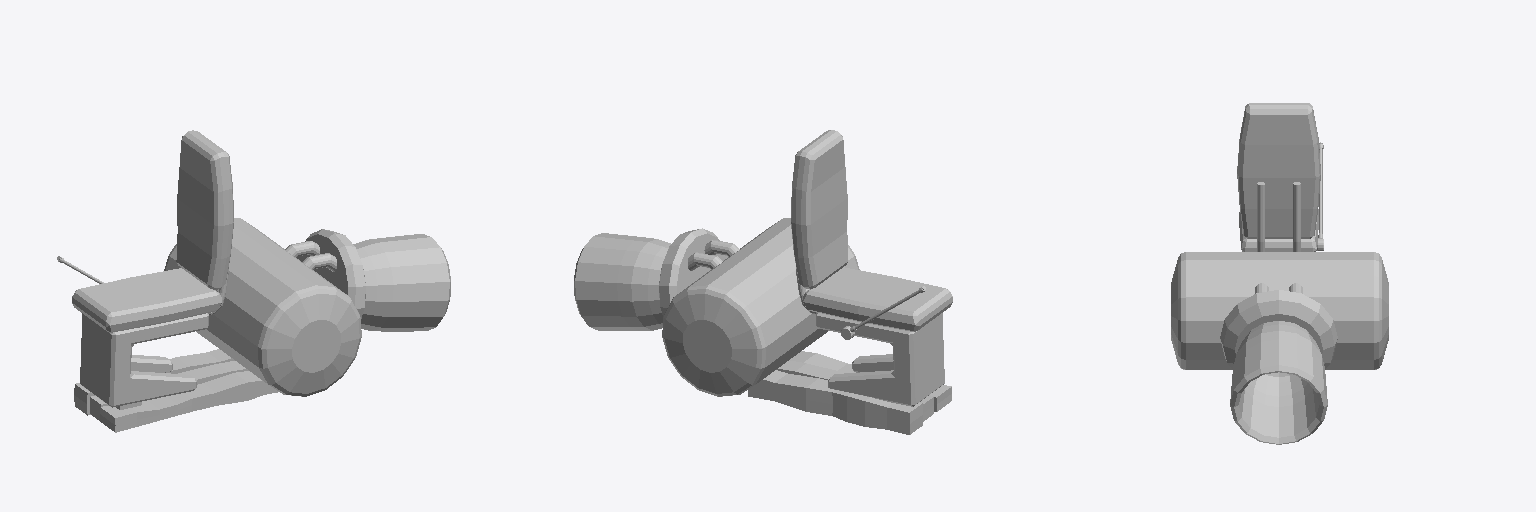
Rendered from navinhoca.obj.
The picture shows the model from 3 angles: view 1: azimuth 30°, elevation 25°; view 2: azimuth 150°, elevation 25°; view 3: azimuth 270°, elevation 25°; orthographic projection.
Bounding box in the file's own units: 12.66 × 8.62 × 6.69.